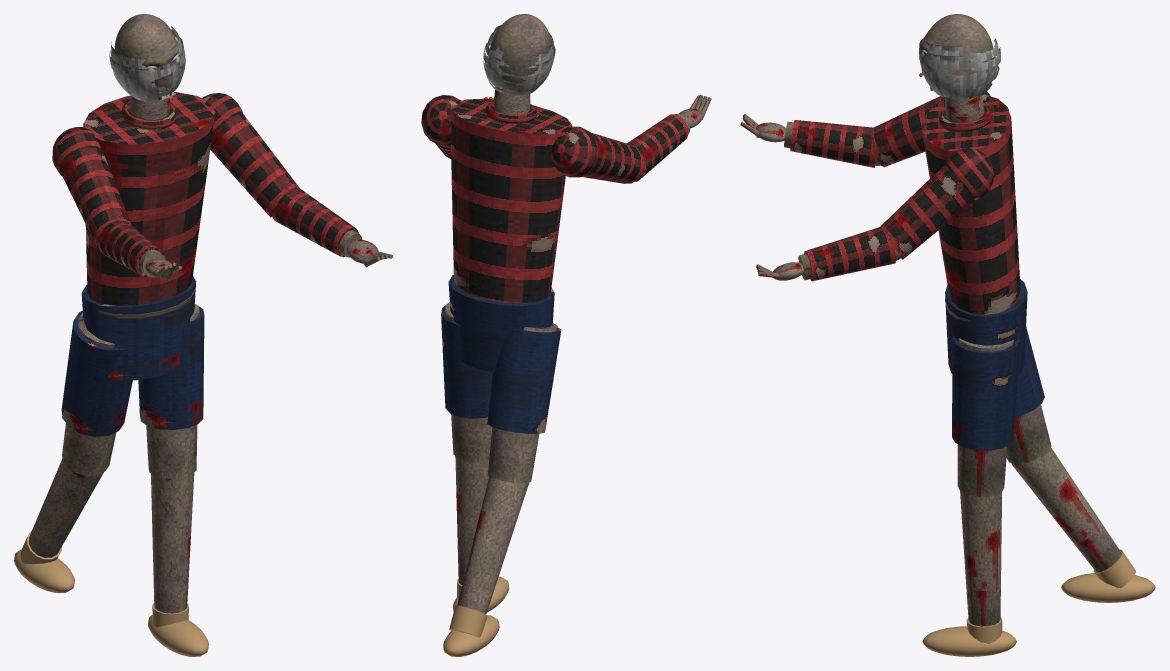
File: Zombie_007.glb
The picture shows the model from 3 angles, left to right: view 1: azimuth 30°, elevation 25°; view 2: azimuth 150°, elevation 25°; view 3: azimuth 270°, elevation 25°; orthographic projection. The views are drawn at different scales.
Parts seen in each view (by area): view 1: Zombie_007, object 12, object 18, object 4, object 43, object 42, object 13; view 2: Zombie_007, object 18, object 4, object 43, object 42; view 3: Zombie_007, object 12, object 4, object 43, object 18, object 42.
Part boxes in pixels (x1,y1,x2,y2): Zombie_007: (14, 92, 299, 656); object 12: (271, 187, 358, 257); object 18: (114, 14, 182, 87); object 4: (97, 220, 165, 278); object 43: (109, 37, 185, 101); object 42: (110, 26, 183, 92); object 13: (346, 239, 378, 263); Zombie_007: (421, 87, 644, 656); object 18: (489, 14, 552, 87); object 4: (627, 114, 688, 181); object 43: (483, 34, 555, 96); object 42: (485, 25, 553, 91); Zombie_007: (871, 91, 1155, 656); object 12: (804, 227, 895, 281); object 4: (790, 120, 875, 167); object 43: (919, 47, 1000, 98); object 18: (919, 14, 993, 75); object 42: (922, 38, 998, 87).
Size of the model in its own units: 0.7028 by 1.82 by 1.1.
Materials: 16 (6 with a texture image).
